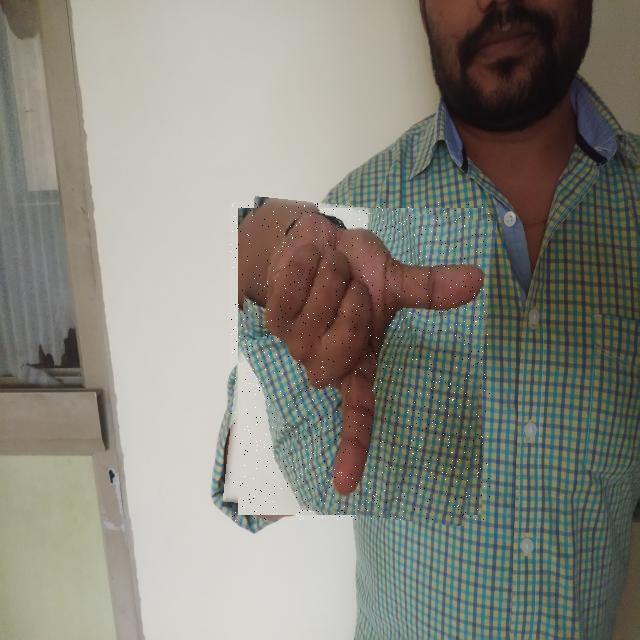L: (230, 202, 490, 521)
